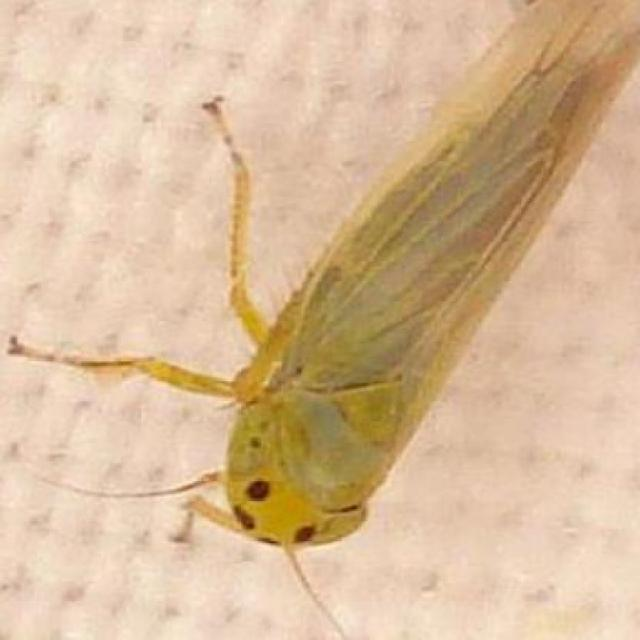green-leafhopper: (7, 0, 638, 547)
